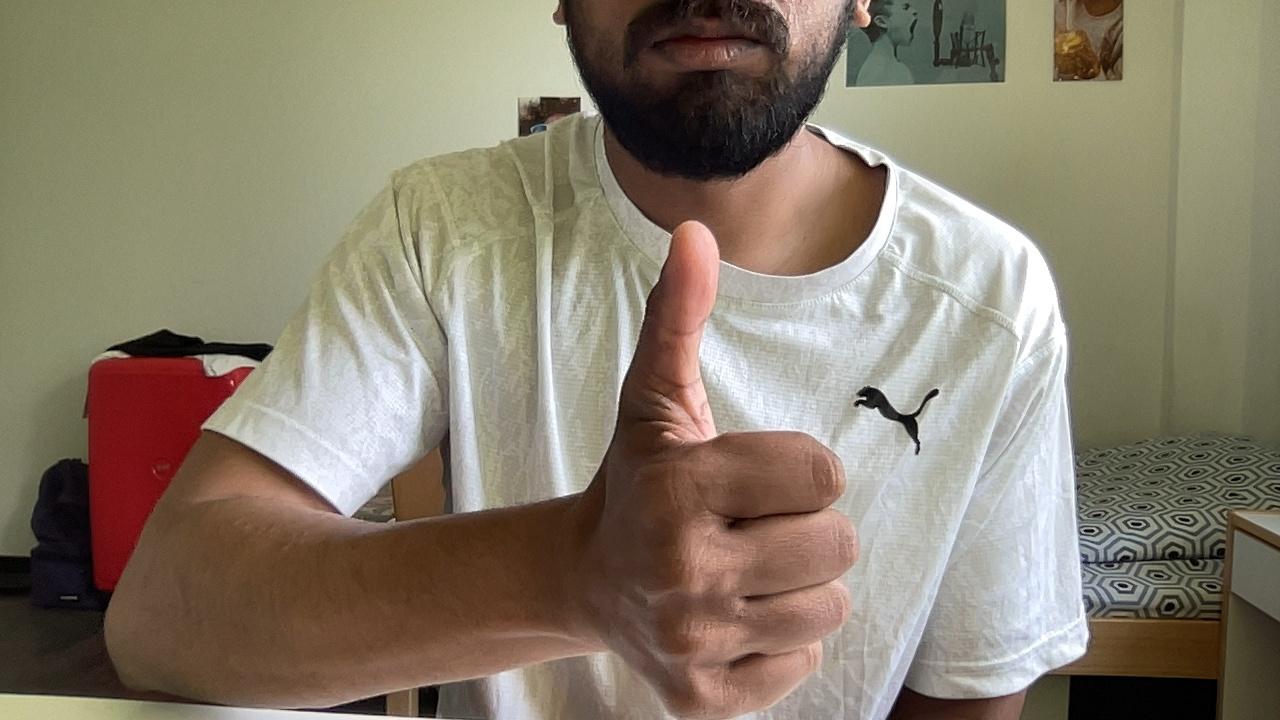ThumbsUp: (590, 221, 861, 720)
